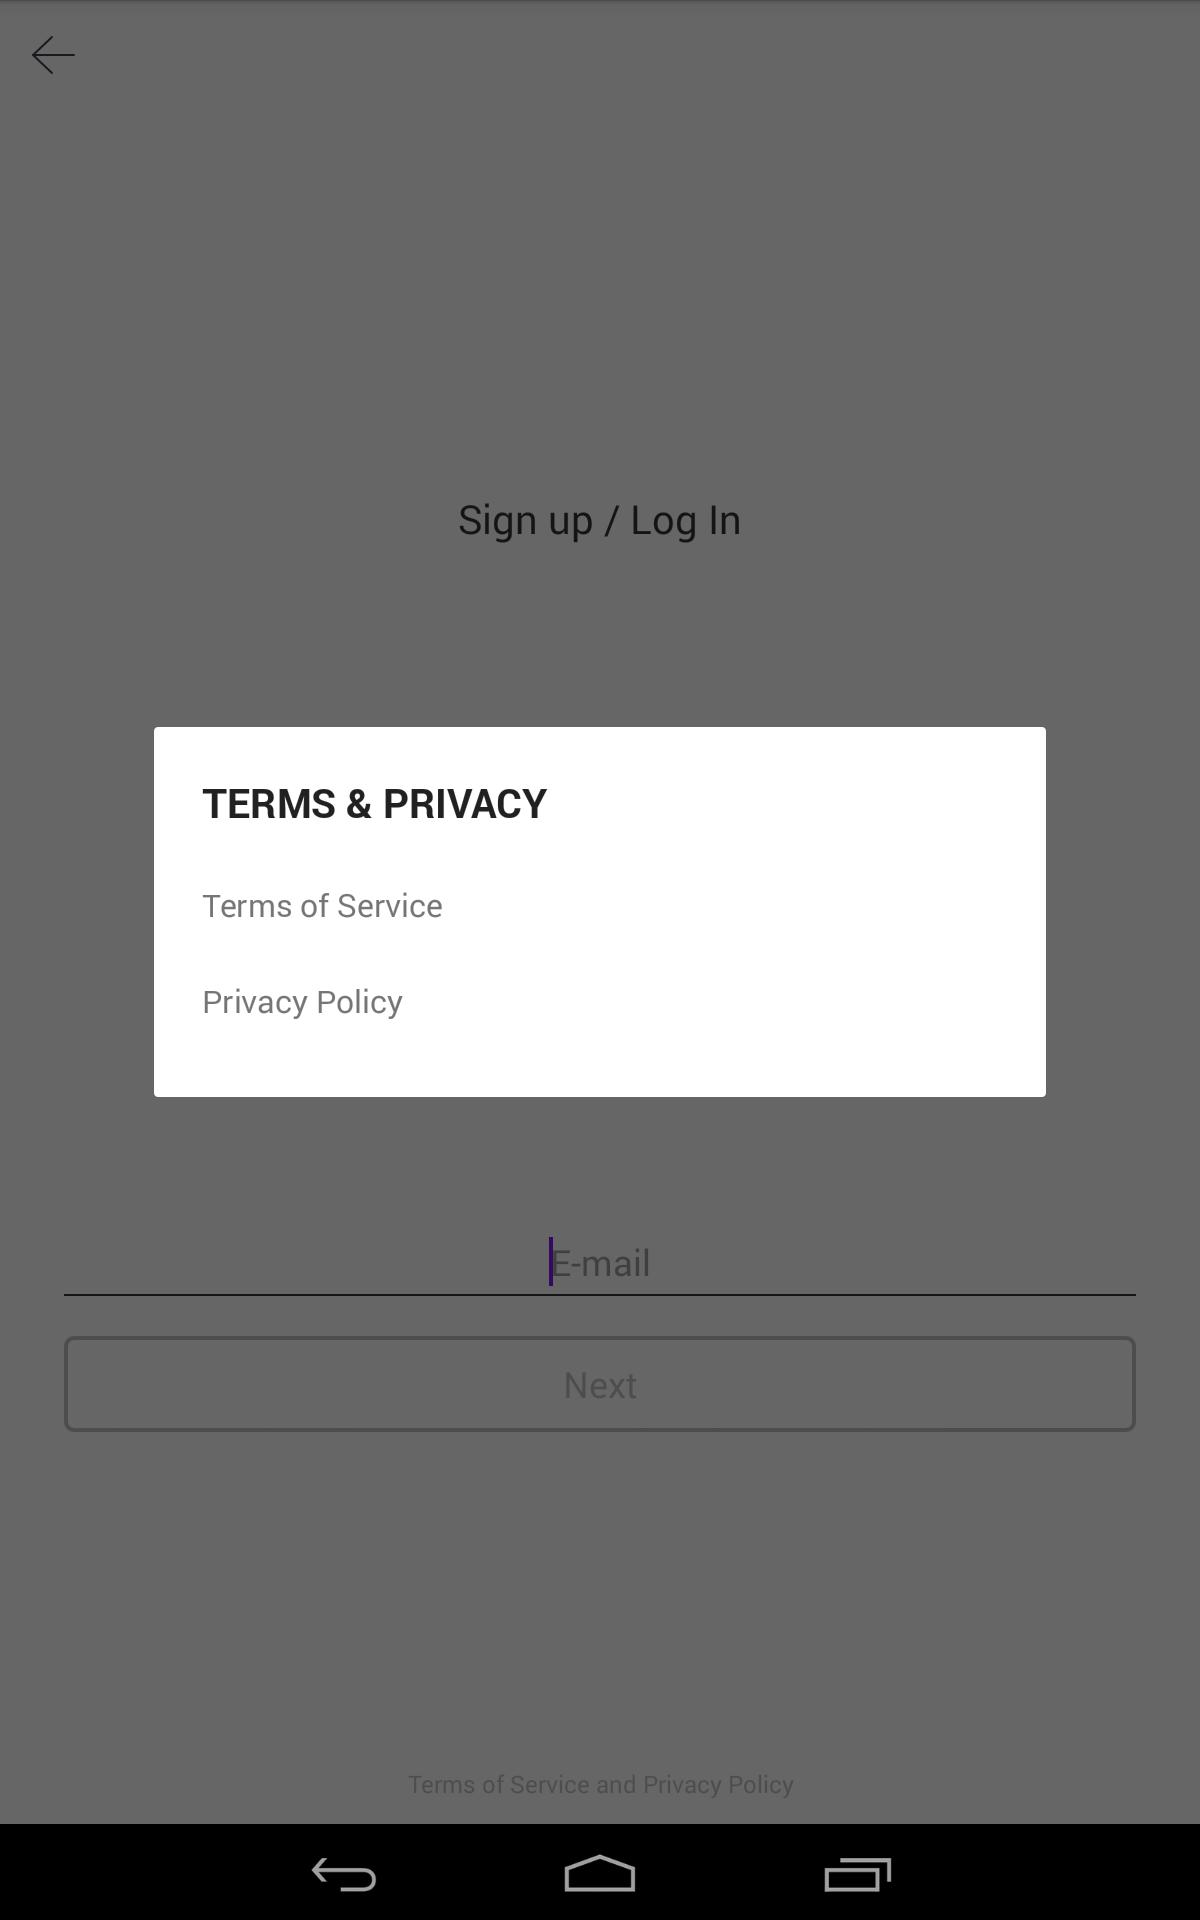android.support.v7.widget.RecyclerView: (153, 840, 1047, 1064)
android.view.View: (153, 727, 1047, 1098)
android.widget.FrameLayout: (153, 727, 1047, 1098), (153, 840, 1047, 1064)
android.widget.LinearLayout: (153, 727, 1047, 1098), (153, 840, 1047, 1064), (153, 727, 1047, 840), (153, 952, 1047, 1049), (153, 857, 1047, 952)
android.widget.TextView: (202, 775, 998, 829), (202, 857, 442, 952), (202, 952, 404, 1049)
